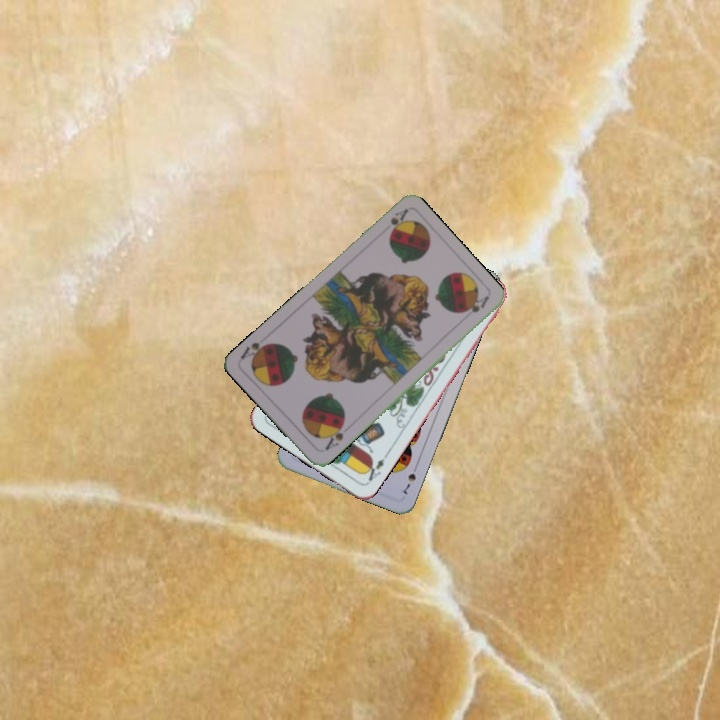EA: (360, 450, 390, 486)
S7: (399, 460, 421, 497)
SA: (320, 418, 347, 453), (385, 205, 410, 239)
